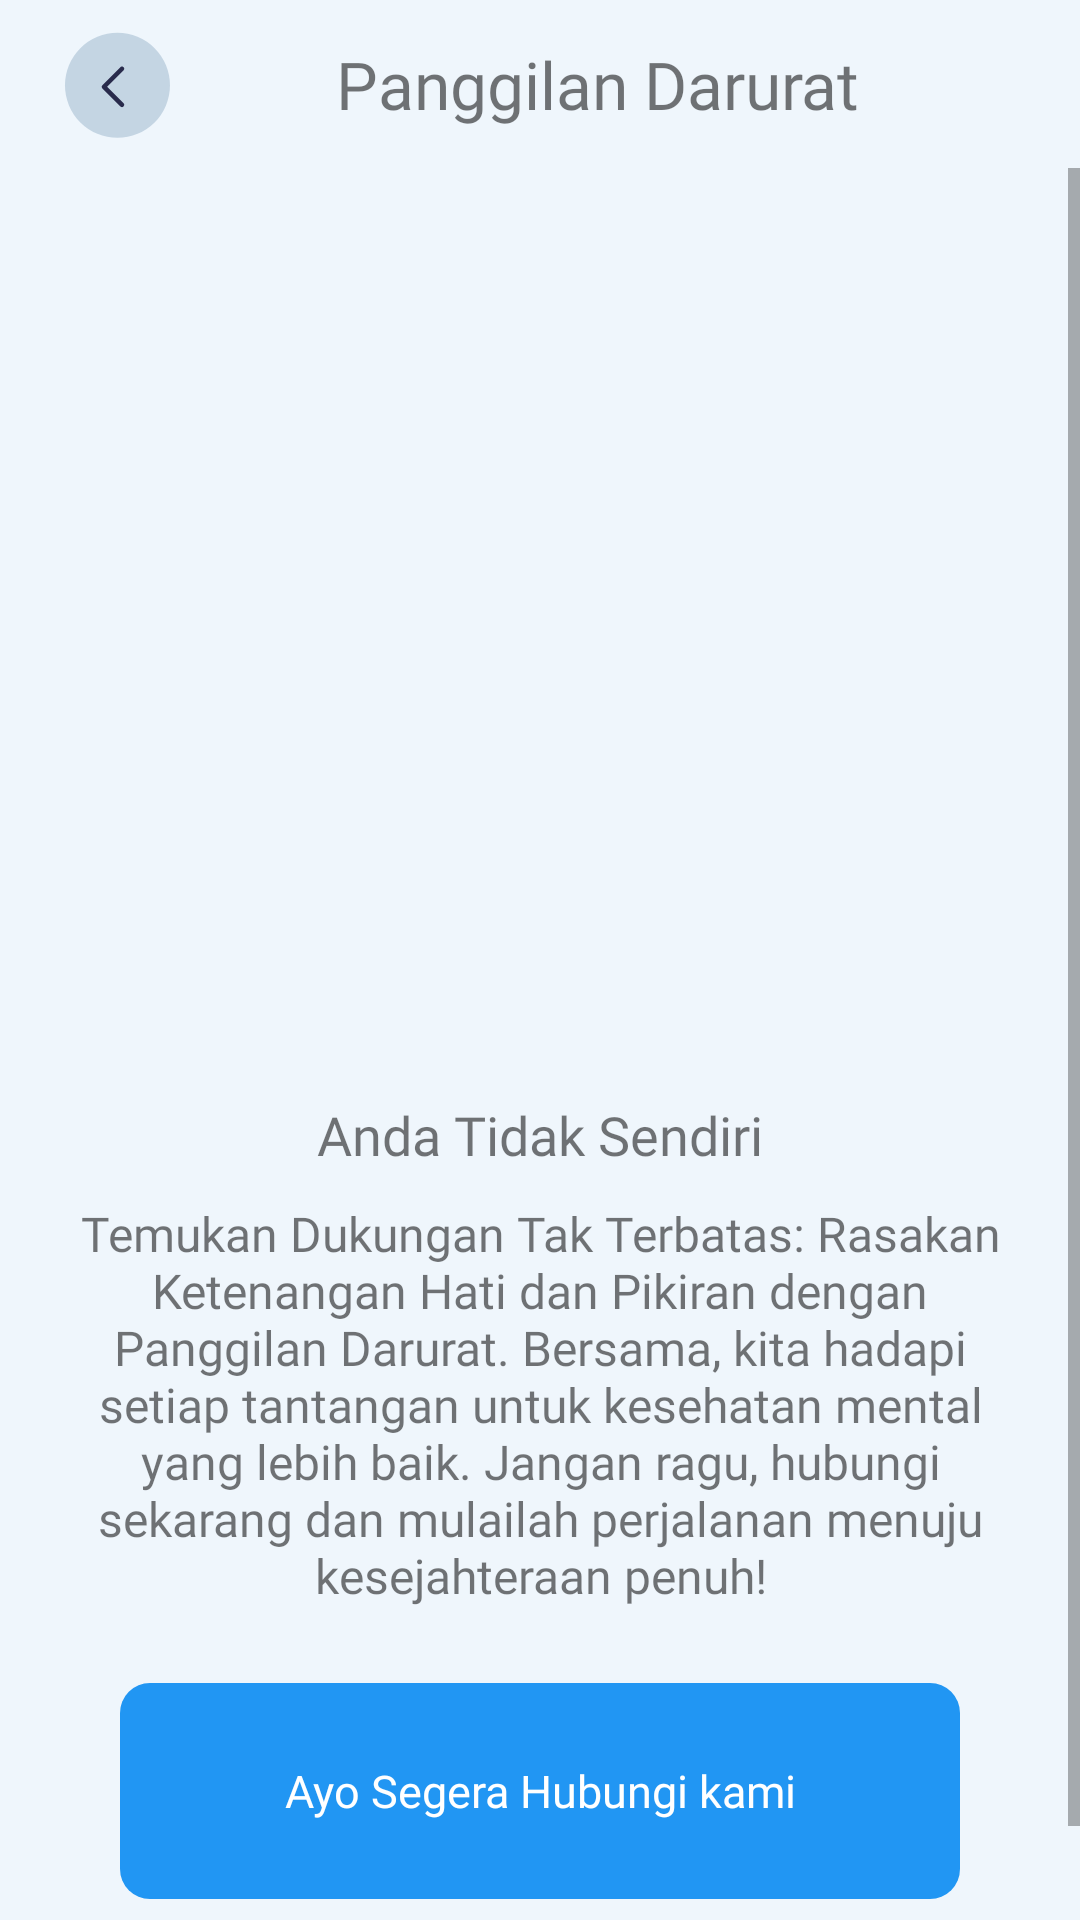

Where to tap for icons on this 1080x1920 app screen, as point (x, y):
kembali: point (117, 85)
